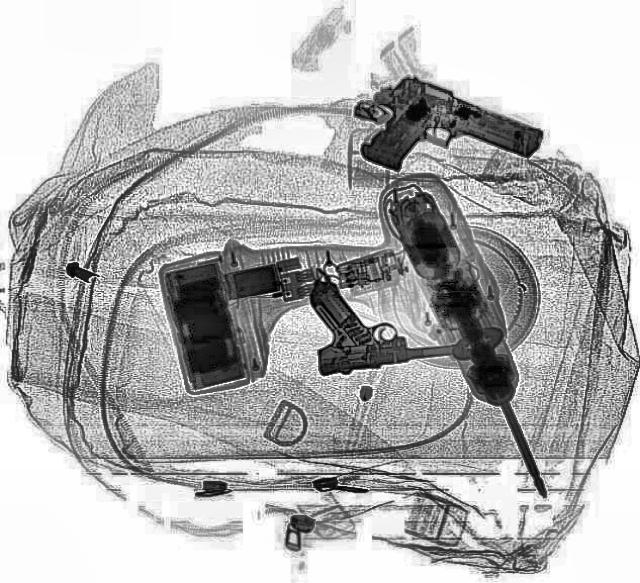Gun: (329, 60, 549, 212), (303, 264, 473, 376)
